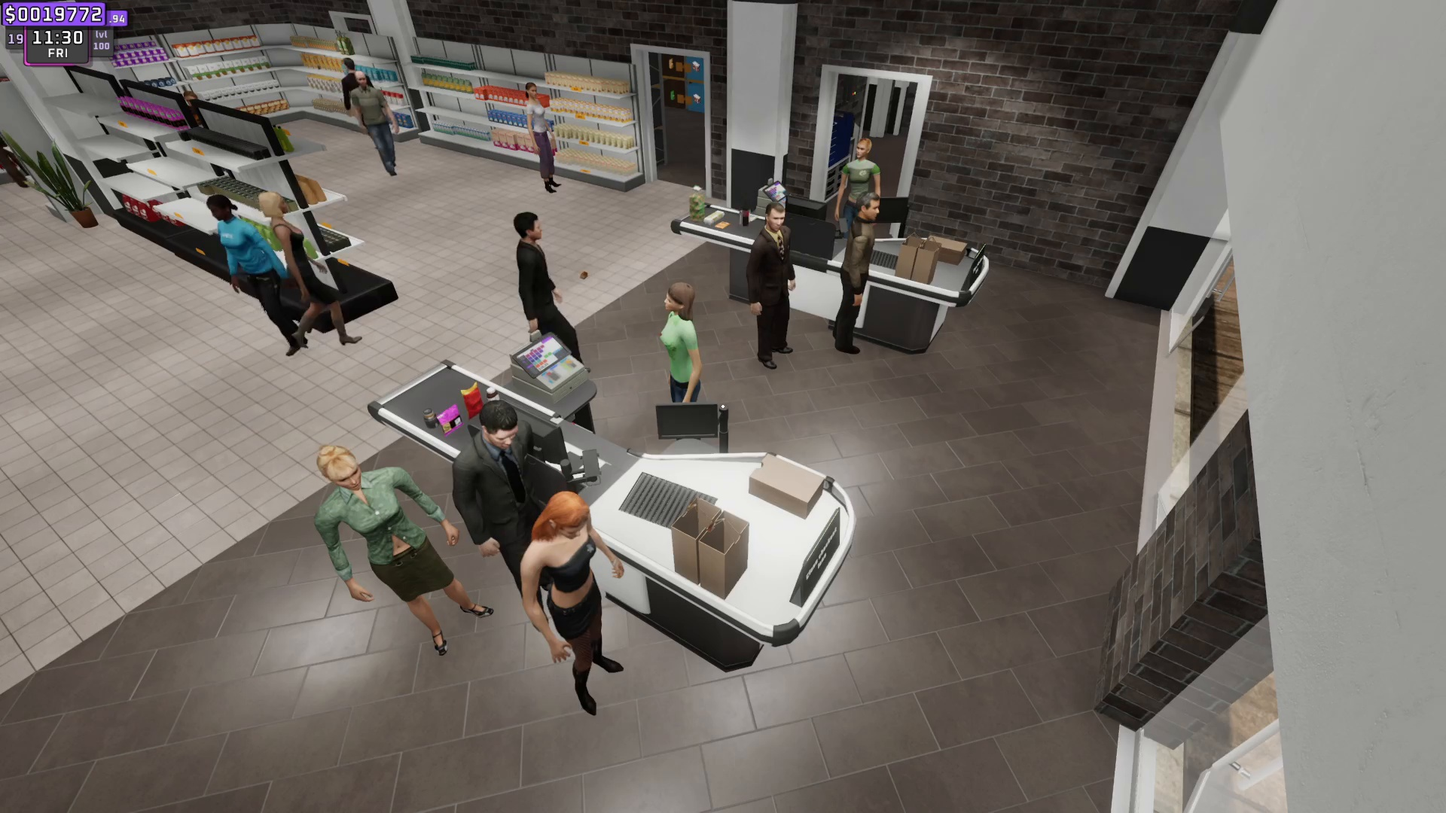Client: (315, 457, 477, 637), (459, 388, 572, 583), (534, 488, 626, 714), (517, 213, 582, 367), (749, 196, 805, 362), (841, 200, 880, 362), (833, 129, 880, 233)
Employee: (658, 284, 728, 440)
